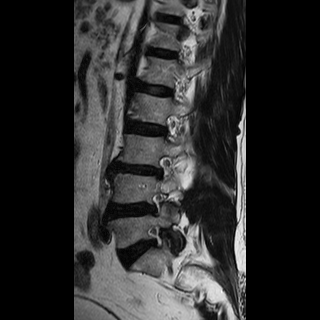RFS0: (142, 221, 164, 256)
RFS1: (146, 187, 168, 220)
